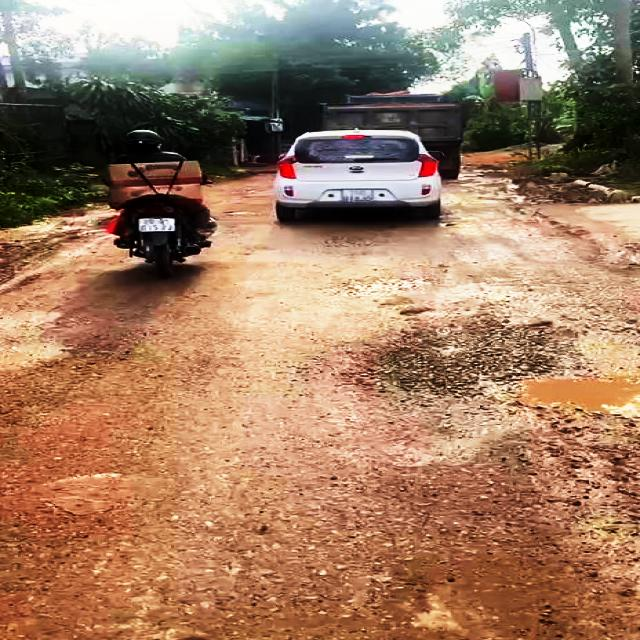pothole: (353, 319, 640, 424)
